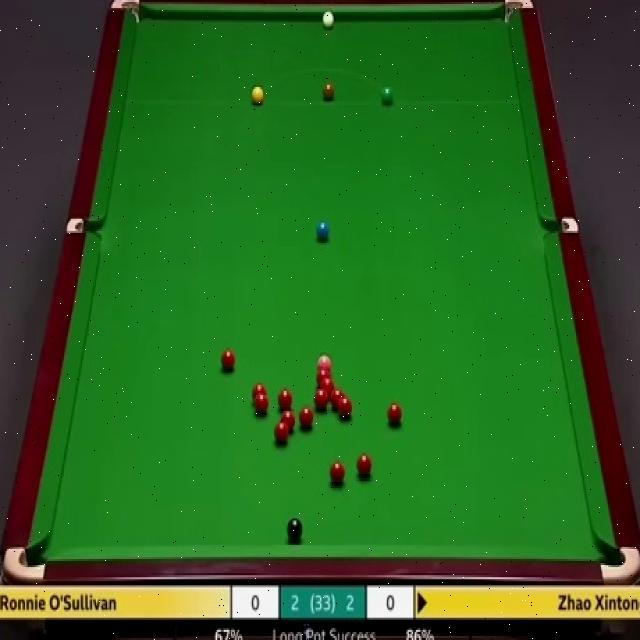black-ball: (285, 515, 303, 539)
blue-ball: (316, 222, 330, 239)
brown-ball: (323, 82, 335, 100)
green-ball: (380, 83, 395, 106)
pink-ball: (316, 354, 334, 369)
red-ball: (387, 398, 402, 426), (219, 348, 235, 372), (274, 422, 290, 444), (300, 404, 314, 428), (329, 457, 343, 481), (314, 388, 328, 411), (254, 394, 269, 415), (356, 452, 370, 474), (337, 396, 352, 416), (281, 412, 296, 432), (278, 388, 291, 410), (253, 383, 267, 403), (319, 377, 334, 395), (330, 385, 343, 405)
white-ball: (323, 10, 335, 30)
yellow-ball: (251, 85, 264, 106)
